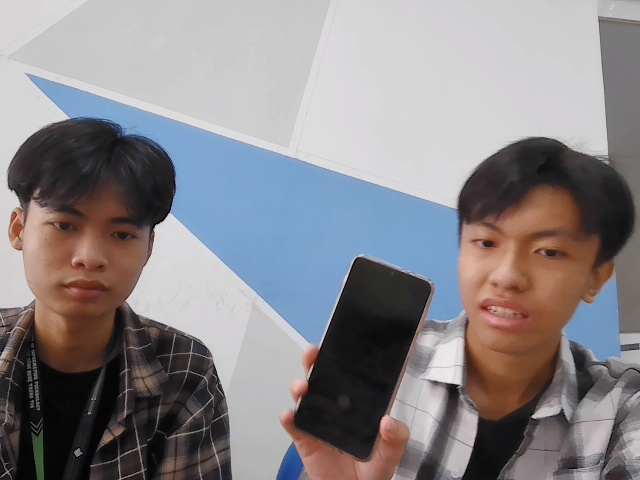human: (456, 153, 627, 349), (9, 125, 170, 319)
phone: (294, 250, 431, 470)
